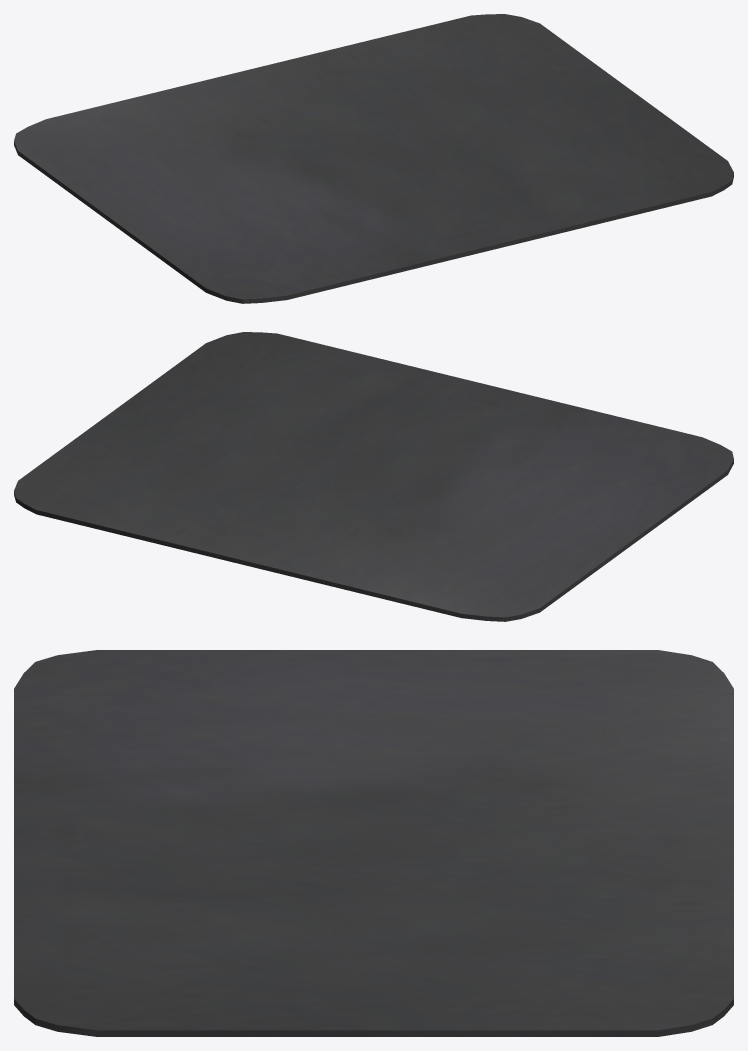
Rendered from Mouse Pad.fbx.
3 views of the same model, one above another, from view 1: azimuth 30°, elevation 25°; view 2: azimuth 150°, elevation 25°; view 3: azimuth 270°, elevation 25° (orthographic). The views are drawn at different scales.
Parts seen in each view (by area): view 1: Mouse_Pad; view 2: Mouse_Pad; view 3: Mouse_Pad.
Part boxes in pixels (<box>): Mouse_Pad: <box>14,14,733,303</box>; Mouse_Pad: <box>14,332,733,621</box>; Mouse_Pad: <box>14,650,733,1036</box>.
Bounding box in the file's own units: 2.5 × 0.0203 × 2.
